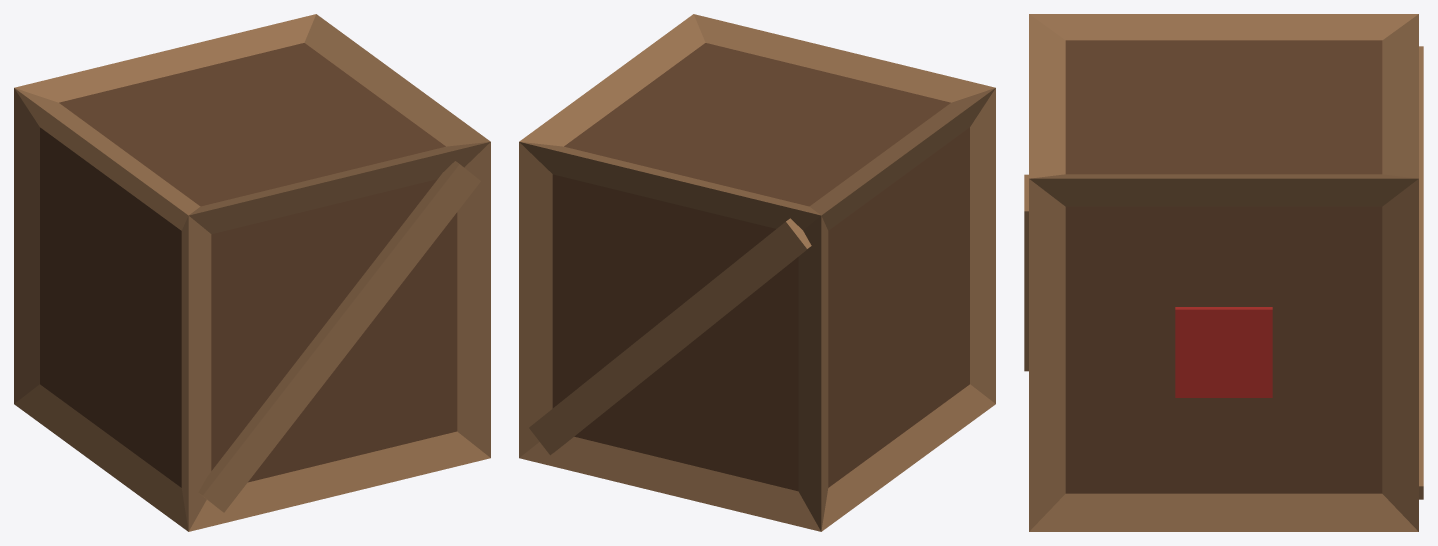
The model's file is crate.fbx.
3 views of the same model, side by side, from view 1: azimuth 30°, elevation 25°; view 2: azimuth 150°, elevation 25°; view 3: azimuth 270°, elevation 25° (orthographic). The views are drawn at different scales.
Visible parts, largest first — view 1: crate; view 2: crate; view 3: crate.
Boxes of the visible parts, <box> form: crate: <box>14,14,490,531</box>; crate: <box>519,14,995,531</box>; crate: <box>1024,14,1423,531</box>.
Bounding box in the file's own units: 0.8 × 0.8 × 0.82.
